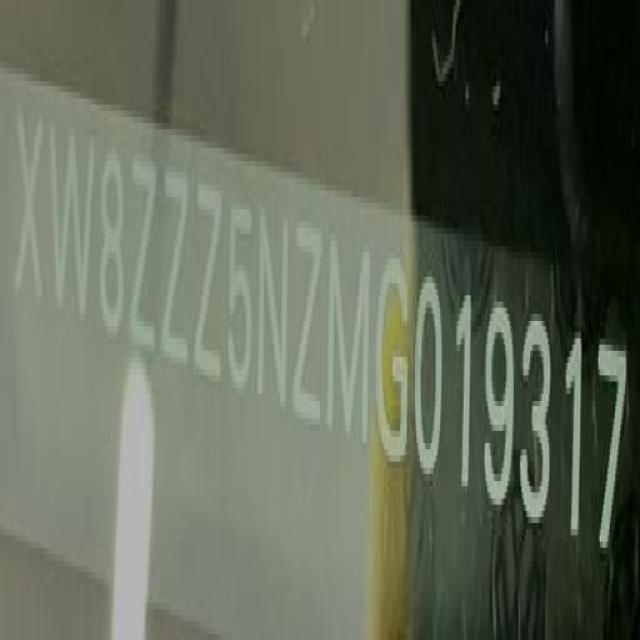0: (412, 274, 444, 494)
1: (562, 321, 586, 545), (452, 287, 474, 504)
3: (518, 316, 556, 536)
5: (226, 198, 254, 408)
7: (595, 324, 628, 563)
8: (100, 139, 125, 342)
9: (480, 301, 516, 524)
G: (373, 246, 410, 479)
M: (324, 237, 374, 460)
N: (257, 198, 291, 424)
W: (46, 110, 96, 338)
X: (16, 89, 44, 321)
Z: (192, 168, 223, 396), (293, 214, 324, 426), (160, 157, 190, 376), (128, 141, 156, 367)
